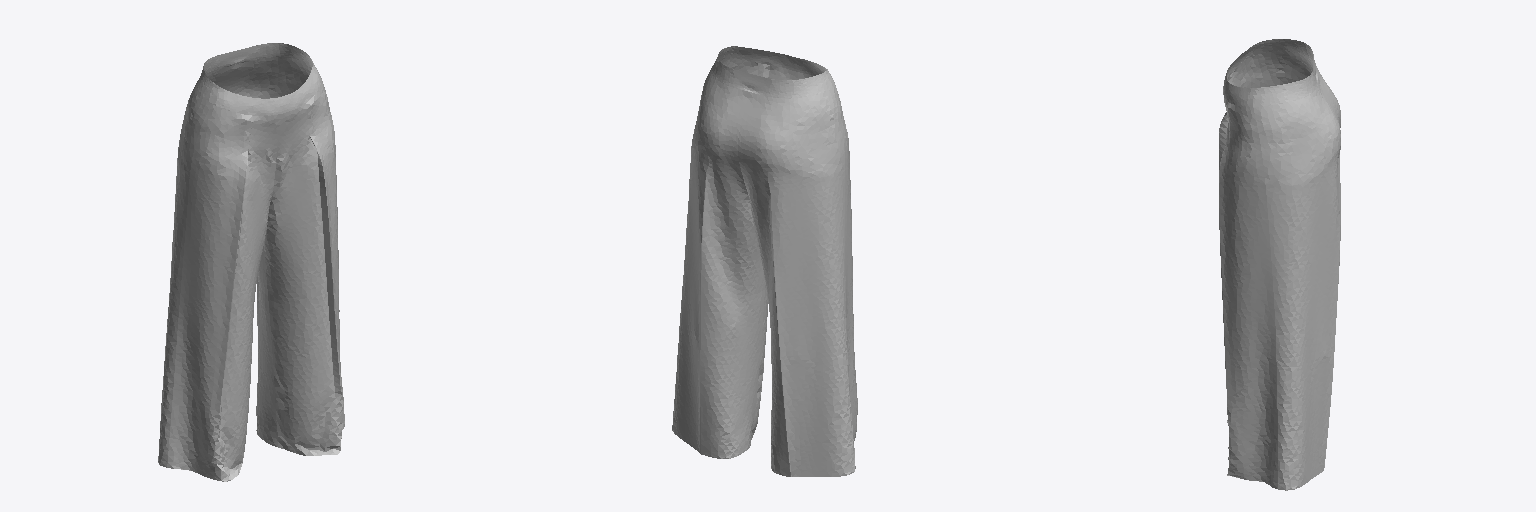
Rendered from Small_Tall.obj.
3 renders of one model, left to right at view 1: azimuth 30°, elevation 25°; view 2: azimuth 150°, elevation 25°; view 3: azimuth 270°, elevation 25°, orthographic.
Visible parts, largest first — view 1: changku.006; view 2: changku.006; view 3: changku.006.
Boxes of the visible parts, <box> form: changku.006: <box>158,43,344,481</box>; changku.006: <box>672,46,857,476</box>; changku.006: <box>1219,39,1340,490</box>.
Size of the model in its own units: 0.4894 by 0.9991 by 0.2851.